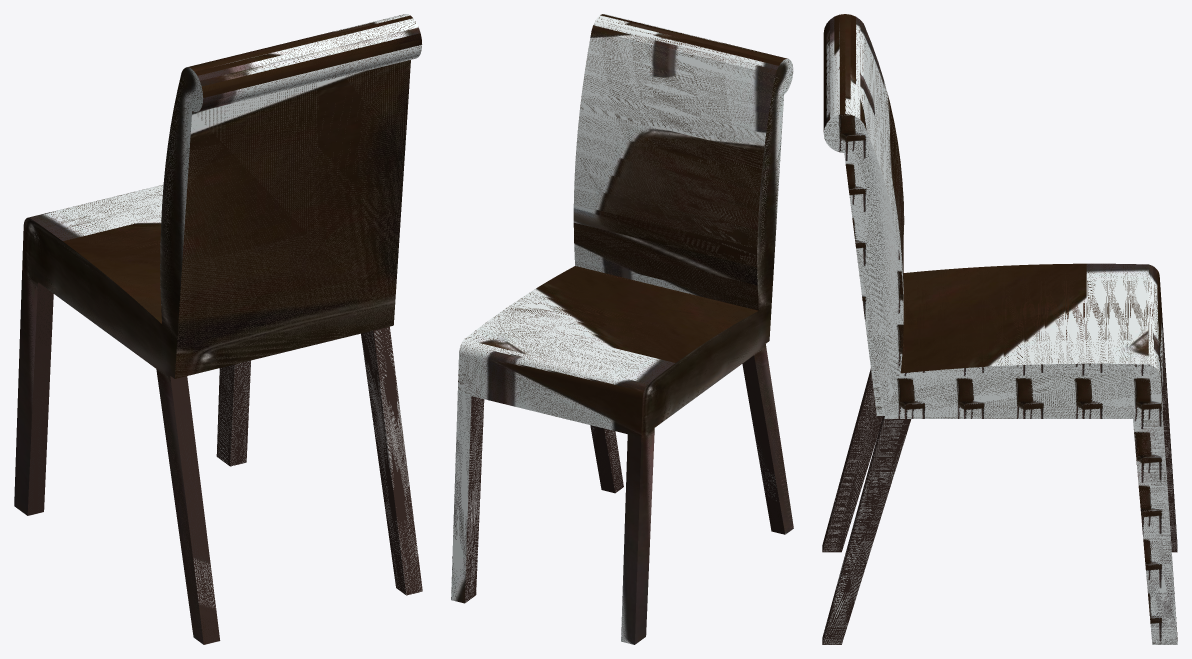
3 views of the same model, side by side, from view 1: azimuth 30°, elevation 25°; view 2: azimuth 150°, elevation 25°; view 3: azimuth 270°, elevation 25° (orthographic). The views are drawn at different scales.
Parts seen in each view (by area): view 1: mesh1_mesh1-geometry; view 2: mesh1_mesh1-geometry; view 3: mesh1_mesh1-geometry.
Boxes of the visible parts, x1,y1,x2,y2 form: mesh1_mesh1-geometry: (14,14,422,644); mesh1_mesh1-geometry: (451,14,793,644); mesh1_mesh1-geometry: (822,14,1177,644).
Size of the model in its own units: 0.3266 by 0.8083 by 0.4899.
